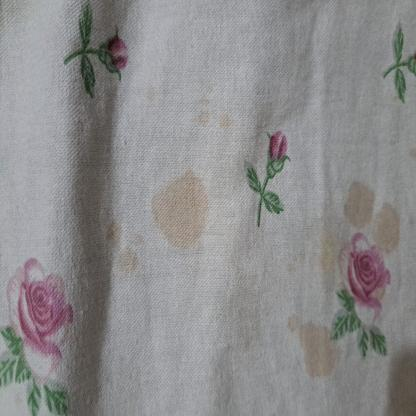spot: (147, 164, 216, 250), (288, 312, 360, 384), (359, 180, 399, 269), (105, 223, 141, 286), (344, 164, 373, 240), (364, 192, 408, 224), (196, 94, 212, 136), (127, 83, 160, 103), (218, 109, 238, 136)
